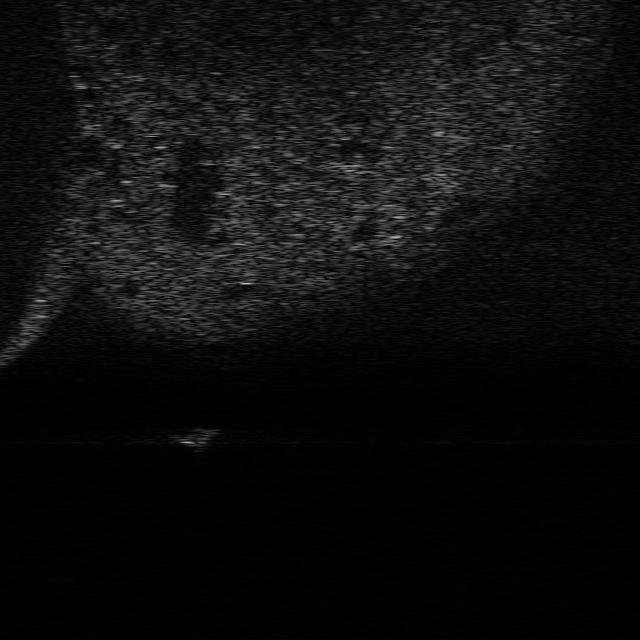cube: (174, 423, 220, 451)
